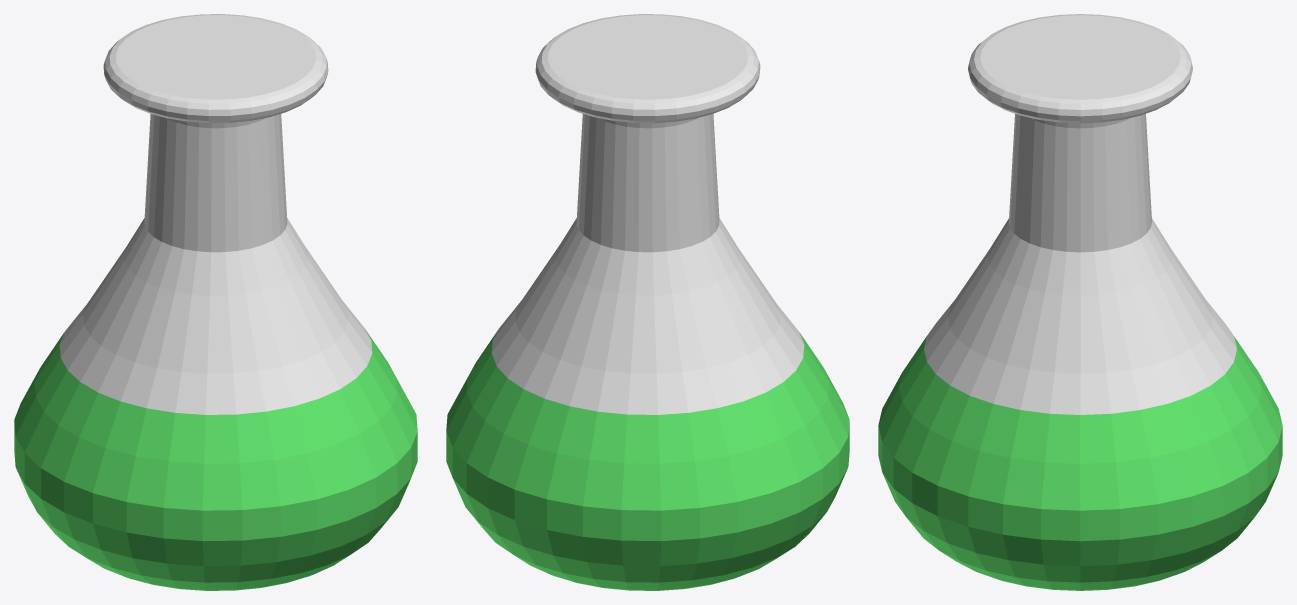
The model's file is Flask.glb.
3 renders of one model, left to right at view 1: azimuth 30°, elevation 25°; view 2: azimuth 150°, elevation 25°; view 3: azimuth 270°, elevation 25°, orthographic.
Visible parts, largest first — view 1: Cylinder; view 2: Cylinder; view 3: Cylinder.
Part boxes in pixels (left/top/right/bottom): Cylinder: left=14, top=14, right=417, bottom=590; Cylinder: left=446, top=14, right=849, bottom=590; Cylinder: left=878, top=14, right=1282, bottom=590.
Size of the model in its own units: 1.03 by 1.34 by 1.03.
